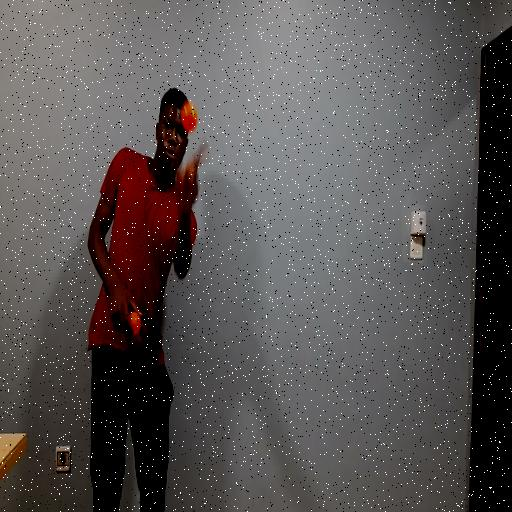plastic-ball: (175, 97, 201, 139)
